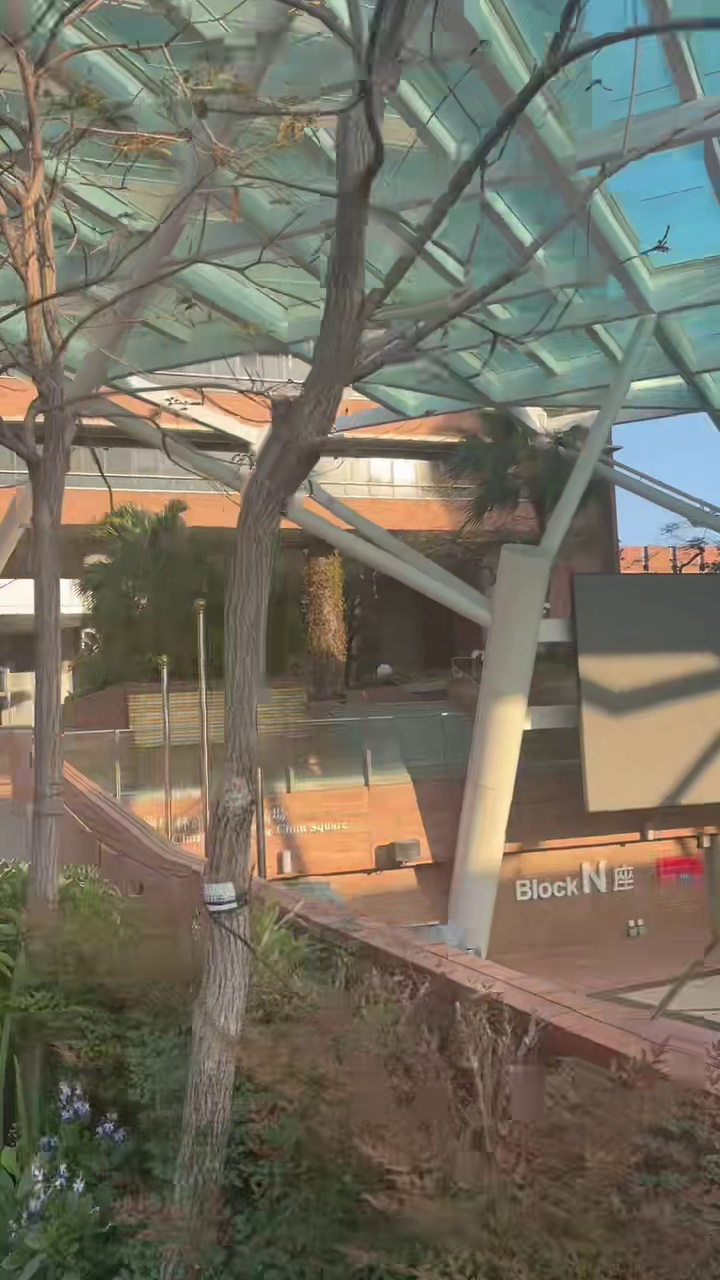Tabebuia chrysantha: (161, 0, 719, 1279)
